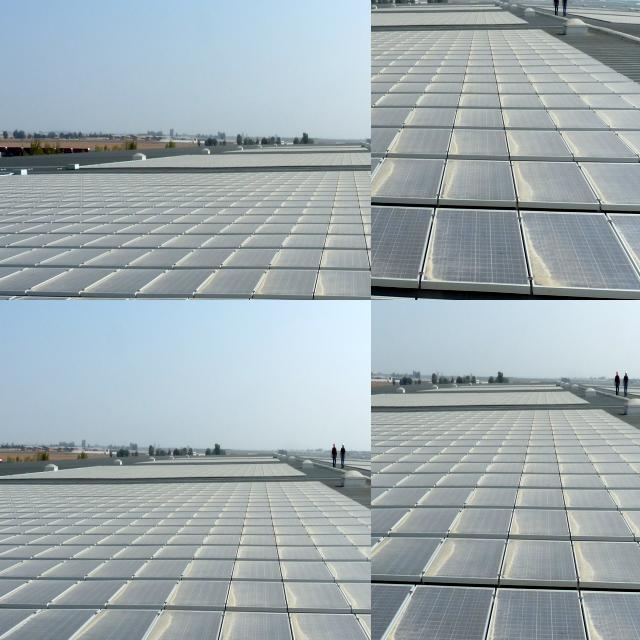crack: (0, 300, 43, 451)
dust: (391, 482, 487, 640), (496, 474, 566, 640), (571, 476, 640, 640), (100, 113, 159, 300), (371, 477, 416, 640), (371, 136, 439, 240), (16, 226, 95, 300), (10, 86, 60, 182), (93, 0, 151, 48), (62, 146, 92, 228), (71, 51, 110, 107), (371, 80, 424, 107), (44, 0, 79, 36), (0, 42, 20, 98), (0, 182, 20, 233), (0, 0, 34, 24)
